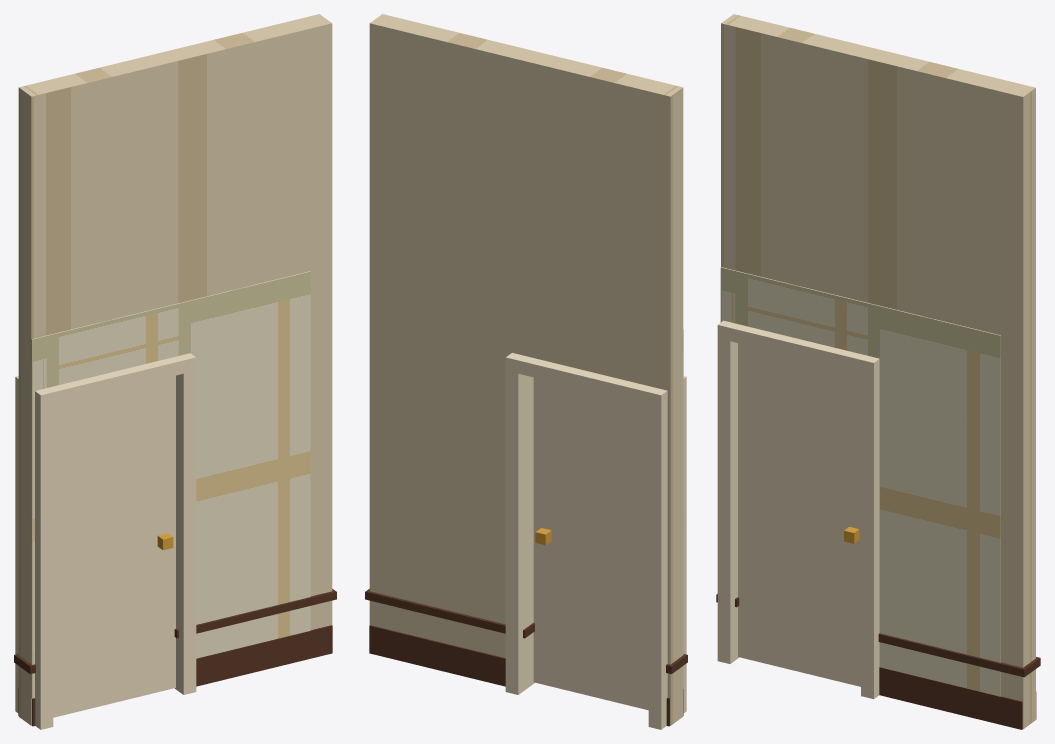
The model's file is stair_south.glb.
3 renders of one model, left to right at view 1: azimuth 30°, elevation 25°; view 2: azimuth 150°, elevation 25°; view 3: azimuth 330°, elevation 25°, orthographic.
Visible parts, largest first — view 1: Box3, Box7, Box12, Box5, Box1, Box9, Box8, Box10, Box4, Box11, Box6, Box18; view 2: Box3, Box5, Box12, Box1, Box10, Box9, Box4, Box11, Box18, Box17; view 3: Box3, Box7, Box12, Box5, Box8, Box9, Box10, Box4, Box1, Box11, Box18, Box6.
Boxes of the visible parts, left/top/right/bottom form: Box3: left=165, top=14, right=332, bottom=629; Box7: left=178, top=271, right=310, bottom=658; Box12: left=53, top=375, right=175, bottom=717; Box5: left=34, top=51, right=178, bottom=335; Box1: left=18, top=84, right=45, bottom=725; Box9: left=15, top=376, right=53, bottom=729; Box8: left=46, top=303, right=178, bottom=387; Box10: left=175, top=353, right=196, bottom=694; Box4: left=196, top=625, right=332, bottom=686; Box11: left=48, top=356, right=183, bottom=405; Box6: left=31, top=335, right=46, bottom=698; Box18: left=174, top=589, right=336, bottom=638; Box3: left=369, top=14, right=536, bottom=657; Box5: left=523, top=51, right=667, bottom=387; Box12: left=533, top=377, right=648, bottom=710; Box1: left=656, top=84, right=683, bottom=725; Box10: left=505, top=353, right=534, bottom=694; Box9: left=648, top=376, right=686, bottom=729; Box4: left=369, top=625, right=505, bottom=686; Box11: left=518, top=356, right=654, bottom=405; Box18: left=365, top=589, right=534, bottom=638; Box17: left=370, top=603, right=505, bottom=656; Box3: left=868, top=50, right=1035, bottom=729; Box7: left=868, top=303, right=1000, bottom=696; Box12: left=738, top=343, right=860, bottom=686; Box5: left=735, top=17, right=880, bottom=302; Box8: left=735, top=270, right=867, bottom=355; Box9: left=717, top=320, right=738, bottom=663; Box10: left=861, top=355, right=879, bottom=699; Box4: left=879, top=667, right=1036, bottom=729; Box1: left=721, top=14, right=747, bottom=270; Box11: left=730, top=323, right=866, bottom=372; Box18: left=878, top=633, right=1040, bottom=677; Box6: left=720, top=267, right=735, bottom=323.
Bounding box in the file's own units: 2.09 × 4.1 × 0.3.
Materials: 5 (2 with a texture image).
